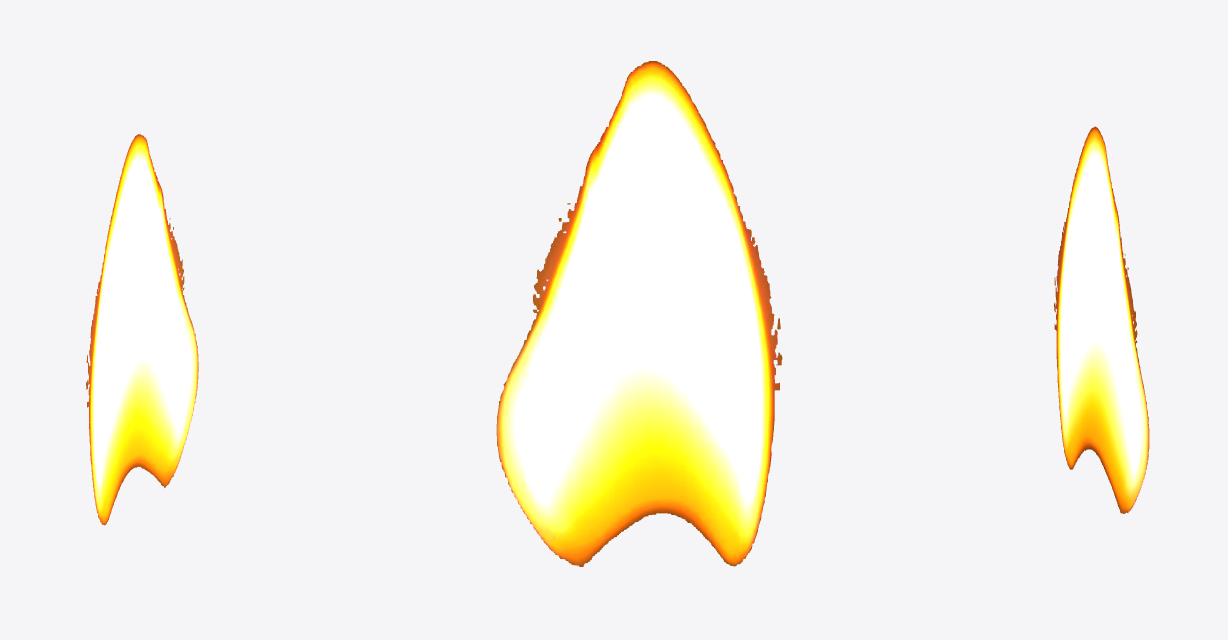
3 renders of one model, left to right at view 1: azimuth 30°, elevation 25°; view 2: azimuth 150°, elevation 25°; view 3: azimuth 270°, elevation 25°, orthographic. The views are drawn at different scales.
Visible parts, largest first — view 1: _133; view 2: _133; view 3: _133.
Part boxes in pixels (x1,y1,x2,y2): _133: (86, 134, 198, 525); _133: (496, 61, 782, 566); _133: (1054, 126, 1149, 513).
Size of the model in its own units: 9.94 by 11.21 by 5.18.
